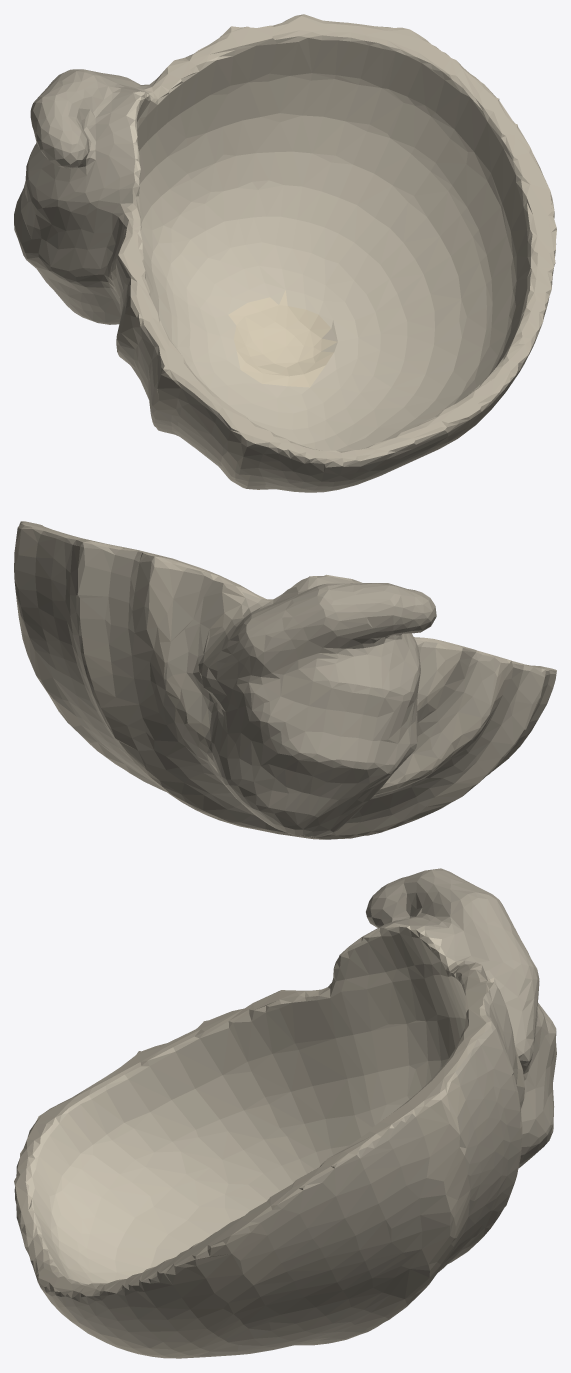
The model's file is exogyra.glb.
The picture shows the model from 3 angles, top to bottom: view 1: azimuth 30°, elevation 25°; view 2: azimuth 150°, elevation 25°; view 3: azimuth 270°, elevation 25°; orthographic projection. The views are drawn at different scales.
Visible parts, largest first — view 1: deep-left-valve; view 2: deep-left-valve; view 3: deep-left-valve.
Part boxes in pixels (x1,y1,x2,y2): deep-left-valve: (14, 14, 556, 492); deep-left-valve: (14, 521, 556, 839); deep-left-valve: (14, 868, 556, 1358).
Bounding box in the file's own units: 0.1088 × 0.0799 × 0.1046.
